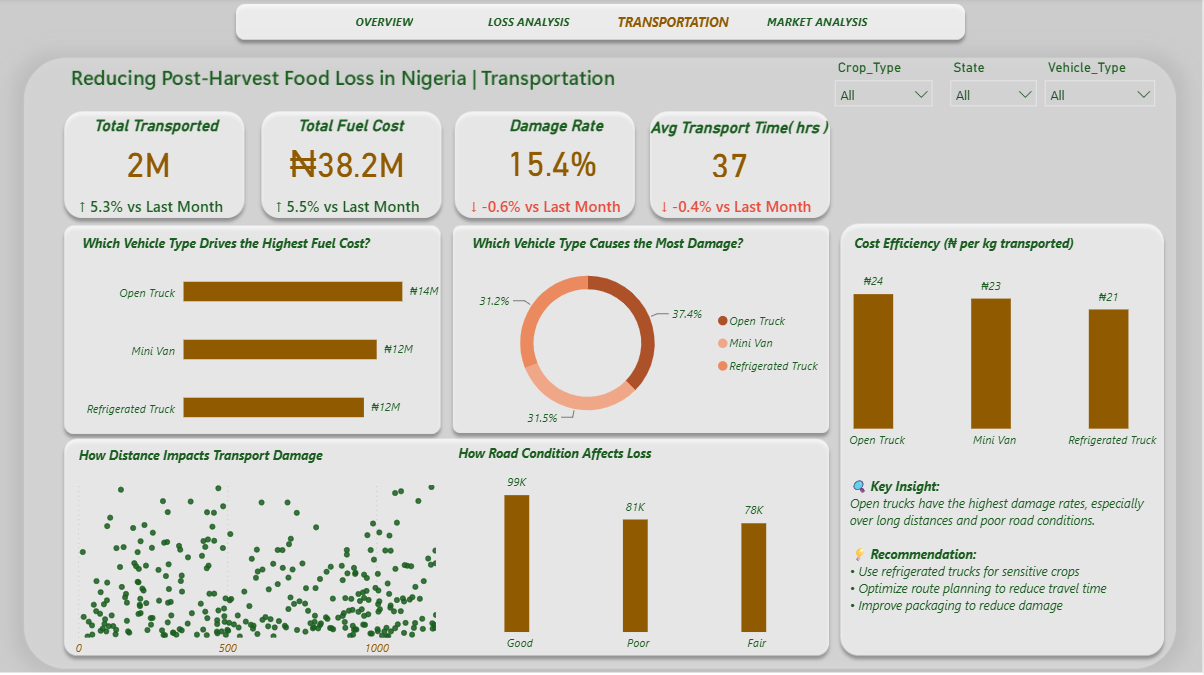

Layout of this report page (visuals, bound fields, positions):
{"tool":"powerbi","page":{"name":"TRANSPORTATION","canvas":[1280,720],"ordinal":2},"visuals":[{"type":"card","fields":{"Values":["_Measure_Transport.Total Transported"]},"box":[83.2,148.8,156.8,49.6],"z":0},{"type":"card","fields":{"Values":["_Measure_Transport.Total Fuel Cost"]},"box":[294.4,147.2,155.2,52.8],"z":1000},{"type":"textbox","box":[83.2,246.4,374.4,30.4],"z":2000},{"type":"textbox","box":[315.2,121.6,134.4,36.8],"z":3000},{"type":"card","fields":{"Values":["_Measure_Transport.Avg Transport Time"]},"box":[700.8,153.6,152,41.6],"z":4000},{"type":"textbox","box":[688,123.2,204.8,49.6],"z":5000},{"type":"card","fields":{"Values":["_Measure_Transport.Damage Rate"]},"box":[520,150.4,137.6,44.8],"z":6000},{"type":"textbox","box":[539.2,121.6,161.6,36.8],"z":7000},{"type":"clusteredBarChart","fields":{"Category":["transportation.Vehicle_Type"],"Y":["_Measure_Transport.Total Fuel Cost"]},"box":[79,263.3,394.9,214.7],"z":8000},{"type":"textbox","box":[99.2,121.6,168,36.8],"z":9000},{"type":"textbox","box":[496,246.4,350.4,30.4],"z":10000},{"type":"donutChart","fields":{"Category":["transportation.Vehicle_Type"],"Y":["--Measures_Loss.Transport Loss"]},"box":[483.8,263.8,402.5,205],"z":11000},{"type":"textbox","box":[484.5,469.3,279.5,28.4],"z":12000},{"type":"scatterChart","fields":{"X":["transportation.Distance_km"],"Y":["transportation.Quantity_Damaged_kg"]},"box":[77.5,503.8,406.2,203.8],"z":13000},{"type":"textbox","box":[83.2,470.4,275.2,28.8],"z":14000},{"type":"pageNavigator","box":[340,14,602,24],"z":15000},{"type":"columnChart","fields":{"Category":["transportation.Road_Condition"],"Y":["--Measures_Loss.Transport Loss"]},"box":[483.5,489.9,394.5,213.1],"z":16000},{"type":"slicer","fields":{"Values":["Dim_Crop.Crop_Type"]},"box":[879,60.8,123.5,62.8],"z":17000},{"type":"slicer","fields":{"Values":["farm_production.State"]},"box":[1002.1,60.4,111.3,63.6],"z":18000},{"type":"slicer","fields":{"Values":["transportation.Vehicle_Type"]},"box":[1102.3,60.4,136.8,63.6],"z":19000},{"type":"textbox","box":[900,504,334,216],"z":20000},{"type":"clusteredColumnChart","fields":{"Category":["transportation.Vehicle_Type"],"Y":["_Measure_Transport.Cost per Kg Transported"]},"box":[854.7,277.5,409.1,210.6],"z":21000},{"type":"textbox","box":[905.6,246.4,350.4,28.8],"z":22000},{"type":"cardVisual","fields":{"Data":["_Measure_Transport.Transport Subtext"]},"box":[58.7,192.4,228.9,56.7],"z":23000},{"type":"cardVisual","fields":{"Data":["_Measure_Transport.Transport Time Subtext"]},"box":[676,192.5,229,57.3],"z":24000},{"type":"cardVisual","fields":{"Data":["_Measure_Transport.Fuel Cost Subtext"]},"box":[267.2,192.5,229,57.3],"z":25000},{"type":"cardVisual","fields":{"Data":["--Measures_Loss.Damage Rate Subtext"]},"box":[474,192.5,229,57.3],"z":26000}]}

Visuals, with their boxes in screenshot pixels (x1, y1, x2, y2), scaled from the page's 1280x720 canvas onto the 1204x675 screenshot:
card - _Measure_Transport.Total Transported: left=78, top=140, right=226, bottom=186
card - _Measure_Transport.Total Fuel Cost: left=277, top=138, right=423, bottom=188
textbox: left=78, top=231, right=430, bottom=260
textbox: left=296, top=114, right=423, bottom=148
card - _Measure_Transport.Avg Transport Time: left=659, top=144, right=802, bottom=183
textbox: left=647, top=116, right=840, bottom=162
card - _Measure_Transport.Damage Rate: left=489, top=141, right=619, bottom=183
textbox: left=507, top=114, right=659, bottom=148
clusteredBarChart - transportation.Vehicle_Type x _Measure_Transport.Total Fuel Cost: left=74, top=247, right=446, bottom=448
textbox: left=93, top=114, right=251, bottom=148
textbox: left=467, top=231, right=796, bottom=260
donutChart - transportation.Vehicle_Type x --Measures_Loss.Transport Loss: left=455, top=247, right=834, bottom=440
textbox: left=456, top=440, right=719, bottom=467
scatterChart - transportation.Distance_km x transportation.Quantity_Damaged_kg: left=73, top=472, right=455, bottom=663
textbox: left=78, top=441, right=337, bottom=468
pageNavigator: left=320, top=13, right=886, bottom=36
columnChart - transportation.Road_Condition x --Measures_Loss.Transport Loss: left=455, top=459, right=826, bottom=659
slicer - Dim_Crop.Crop_Type: left=827, top=57, right=943, bottom=116
slicer - farm_production.State: left=943, top=57, right=1047, bottom=116
slicer - transportation.Vehicle_Type: left=1037, top=57, right=1166, bottom=116
textbox: left=847, top=472, right=1161, bottom=674
clusteredColumnChart - transportation.Vehicle_Type x _Measure_Transport.Cost per Kg Transported: left=804, top=260, right=1189, bottom=458
textbox: left=852, top=231, right=1181, bottom=258
cardVisual - _Measure_Transport.Transport Subtext: left=55, top=180, right=271, bottom=234
cardVisual - _Measure_Transport.Transport Time Subtext: left=636, top=180, right=851, bottom=234
cardVisual - _Measure_Transport.Fuel Cost Subtext: left=251, top=180, right=467, bottom=234
cardVisual - --Measures_Loss.Damage Rate Subtext: left=446, top=180, right=661, bottom=234
